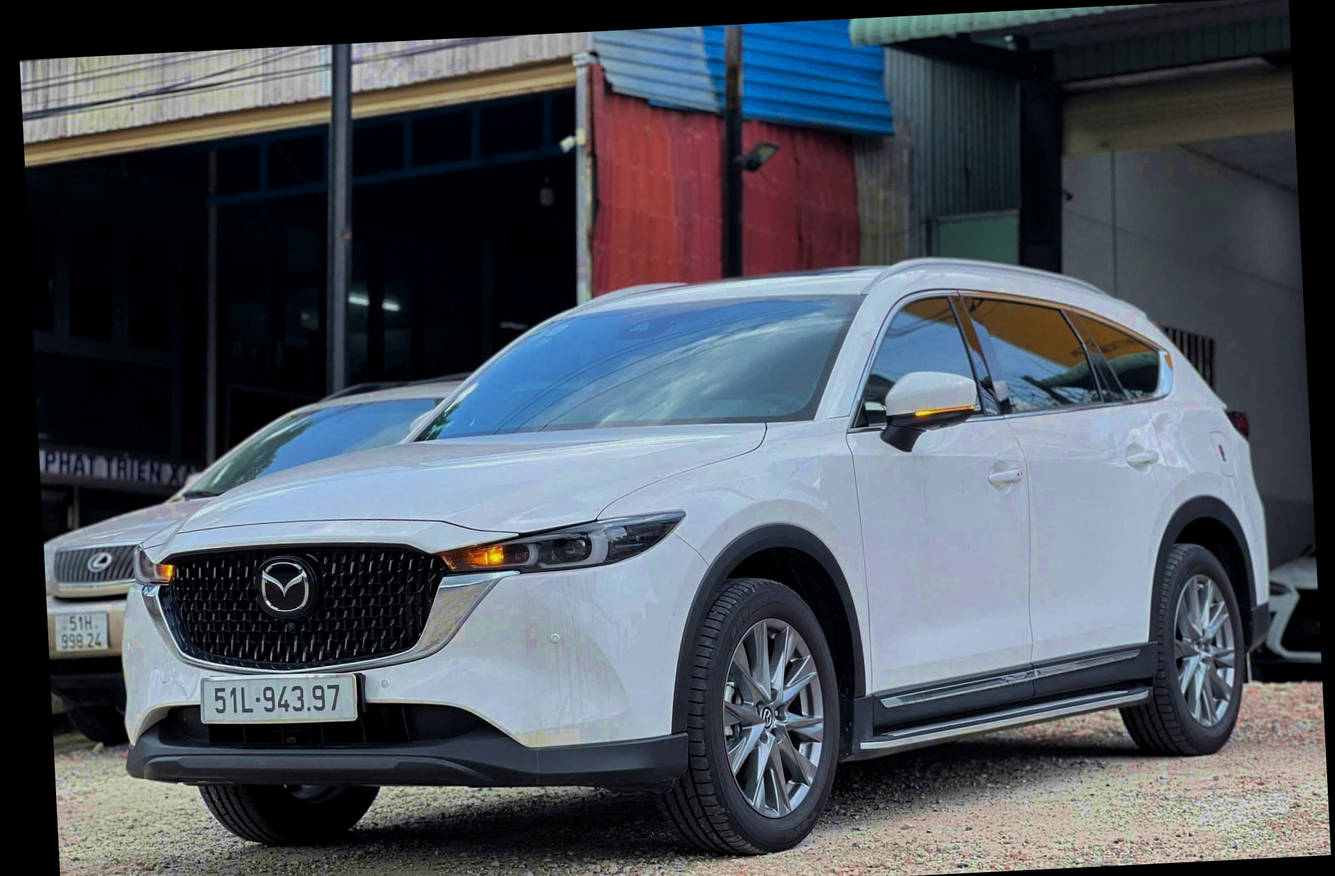Bien-so: (204, 666, 361, 727), (56, 610, 113, 655)
